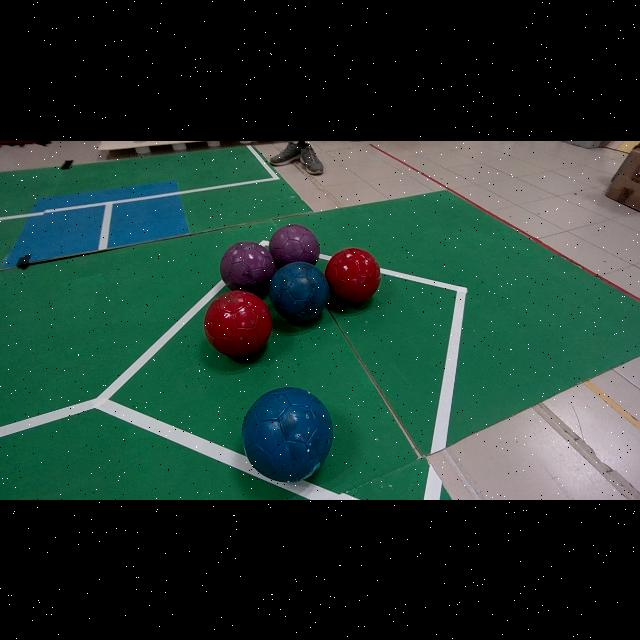B: (243, 387, 333, 481), (269, 261, 329, 321)
P: (221, 240, 276, 293), (269, 224, 319, 267)
R: (204, 290, 273, 358), (326, 247, 382, 303)
